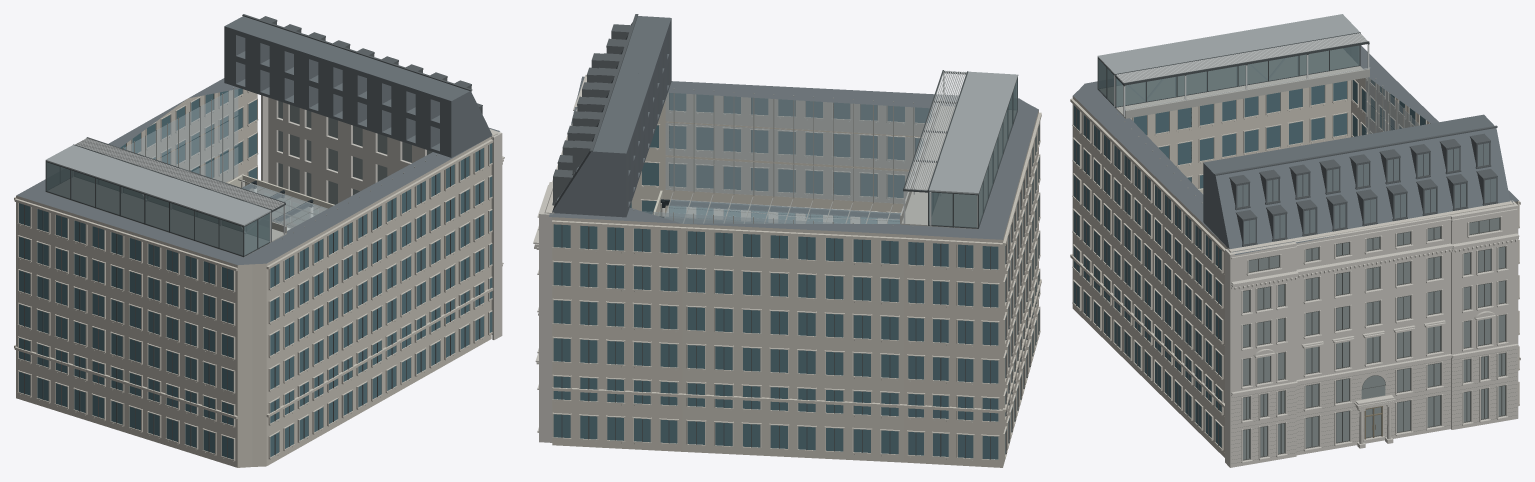
The model's file is ckk-exterior-9f855040af17.glb.
3 renders of one model, left to right at view 1: azimuth 30°, elevation 25°; view 2: azimuth 150°, elevation 25°; view 3: azimuth 270°, elevation 25°, orthographic. The views are drawn at different scales.
Parts seen in each view (by area): view 1: CKK.001; view 2: CKK.001; view 3: CKK.001.
Boxes of the visible parts, x1,y1,x2,y2 form: CKK.001: [14, 14, 504, 467]; CKK.001: [533, 14, 1041, 467]; CKK.001: [1070, 14, 1520, 467].
Size of the model in its own units: 56.1 by 32.3 by 47.89.
